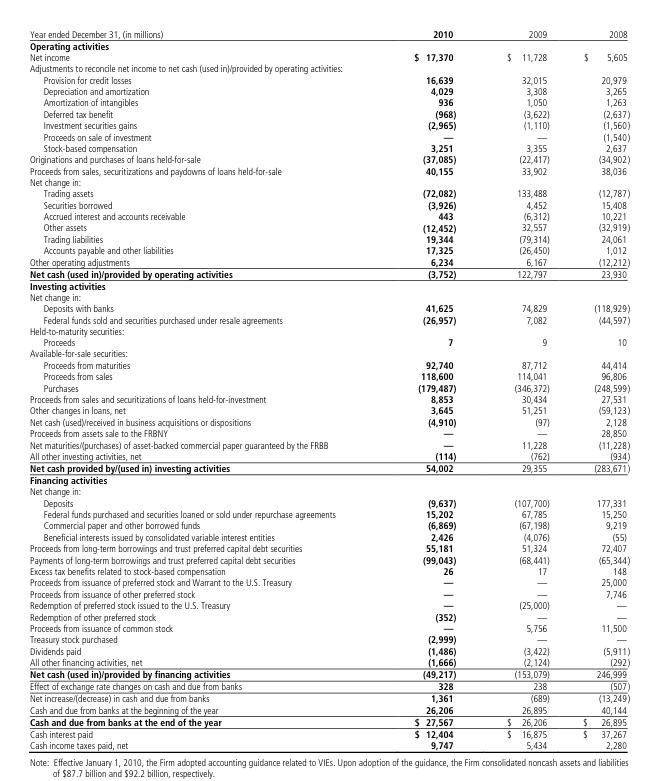table: (28, 28, 629, 750)
table column: (28, 28, 373, 750), (373, 28, 480, 750), (480, 28, 565, 750), (565, 28, 629, 750)
table column header: (28, 28, 629, 39)
table projected row header: (28, 39, 629, 51), (28, 62, 629, 74), (28, 485, 629, 497), (28, 176, 629, 187), (28, 280, 629, 291), (28, 291, 629, 302), (28, 325, 629, 336), (28, 348, 629, 359), (28, 474, 629, 485)
table row: (28, 267, 629, 280), (28, 39, 629, 51), (28, 62, 629, 74), (28, 96, 629, 108), (28, 119, 629, 131), (28, 153, 629, 165), (28, 187, 629, 199), (28, 210, 629, 222), (28, 244, 629, 256), (28, 302, 629, 314), (28, 336, 629, 348), (28, 370, 629, 382), (28, 404, 629, 416), (28, 427, 629, 439), (28, 450, 629, 462), (28, 462, 629, 474), (28, 485, 629, 497), (28, 519, 629, 531), (28, 542, 629, 554), (28, 576, 629, 588), (28, 599, 629, 611), (28, 633, 629, 645), (28, 656, 629, 668), (28, 668, 629, 680), (28, 680, 629, 692), (28, 692, 629, 704), (28, 715, 629, 727), (28, 727, 629, 739), (28, 28, 629, 39), (28, 51, 629, 62), (28, 74, 629, 85), (28, 85, 629, 96), (28, 108, 629, 119), (28, 131, 629, 142), (28, 142, 629, 153), (28, 165, 629, 176), (28, 176, 629, 187), (28, 199, 629, 210), (28, 222, 629, 233), (28, 233, 629, 244), (28, 256, 629, 267), (28, 280, 629, 291), (28, 291, 629, 302), (28, 314, 629, 325), (28, 325, 629, 336), (28, 348, 629, 359), (28, 359, 629, 370), (28, 382, 629, 393), (28, 393, 629, 404), (28, 416, 629, 427), (28, 439, 629, 450), (28, 474, 629, 485), (28, 497, 629, 508), (28, 508, 629, 519), (28, 531, 629, 542), (28, 554, 629, 565), (28, 565, 629, 576), (28, 588, 629, 599), (28, 611, 629, 622), (28, 622, 629, 633), (28, 645, 629, 656), (28, 704, 629, 715), (28, 739, 629, 750)
